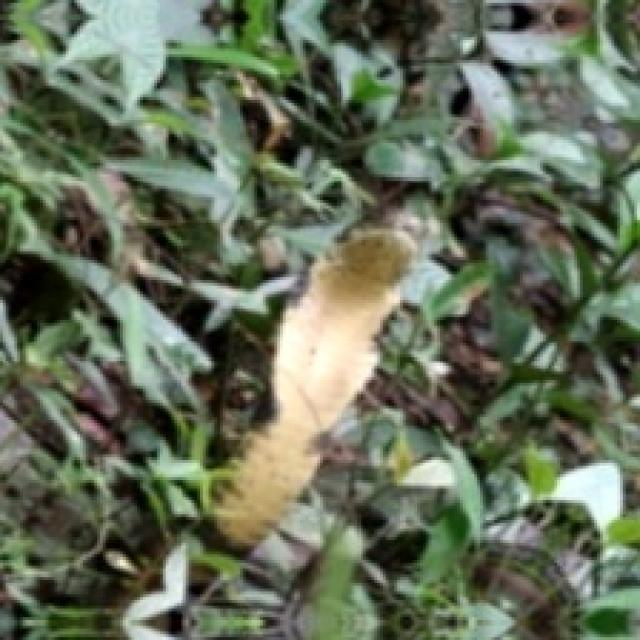king cobra: (214, 229, 411, 546)
